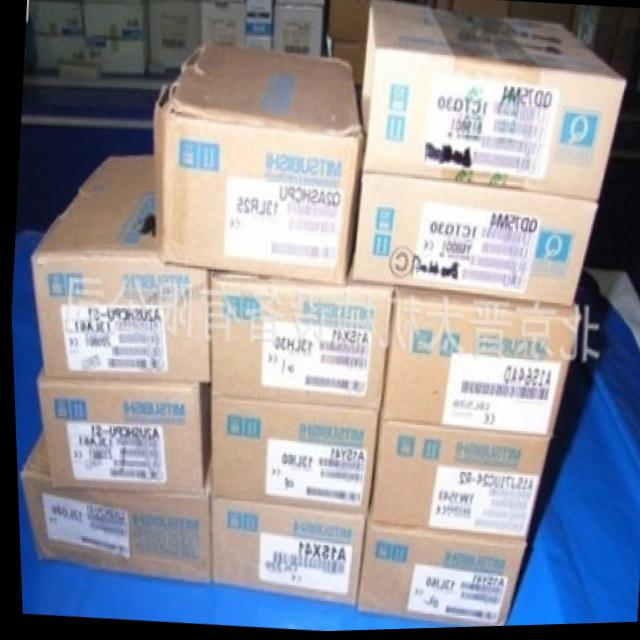box: (357, 1, 625, 204), (152, 44, 362, 281), (28, 153, 207, 384), (349, 175, 597, 312), (376, 286, 576, 440), (15, 426, 207, 583), (207, 270, 392, 413), (33, 361, 207, 492), (364, 420, 546, 543), (207, 395, 376, 517), (349, 519, 523, 630), (206, 495, 364, 609), (58, 2, 150, 79), (148, 2, 203, 66), (272, 5, 321, 59), (197, 0, 245, 49), (327, 0, 371, 48), (28, 1, 82, 36), (327, 43, 364, 89), (37, 34, 83, 70), (243, 0, 272, 56), (83, 0, 148, 4), (275, 0, 323, 5), (148, 0, 203, 4), (201, 0, 245, 3)
